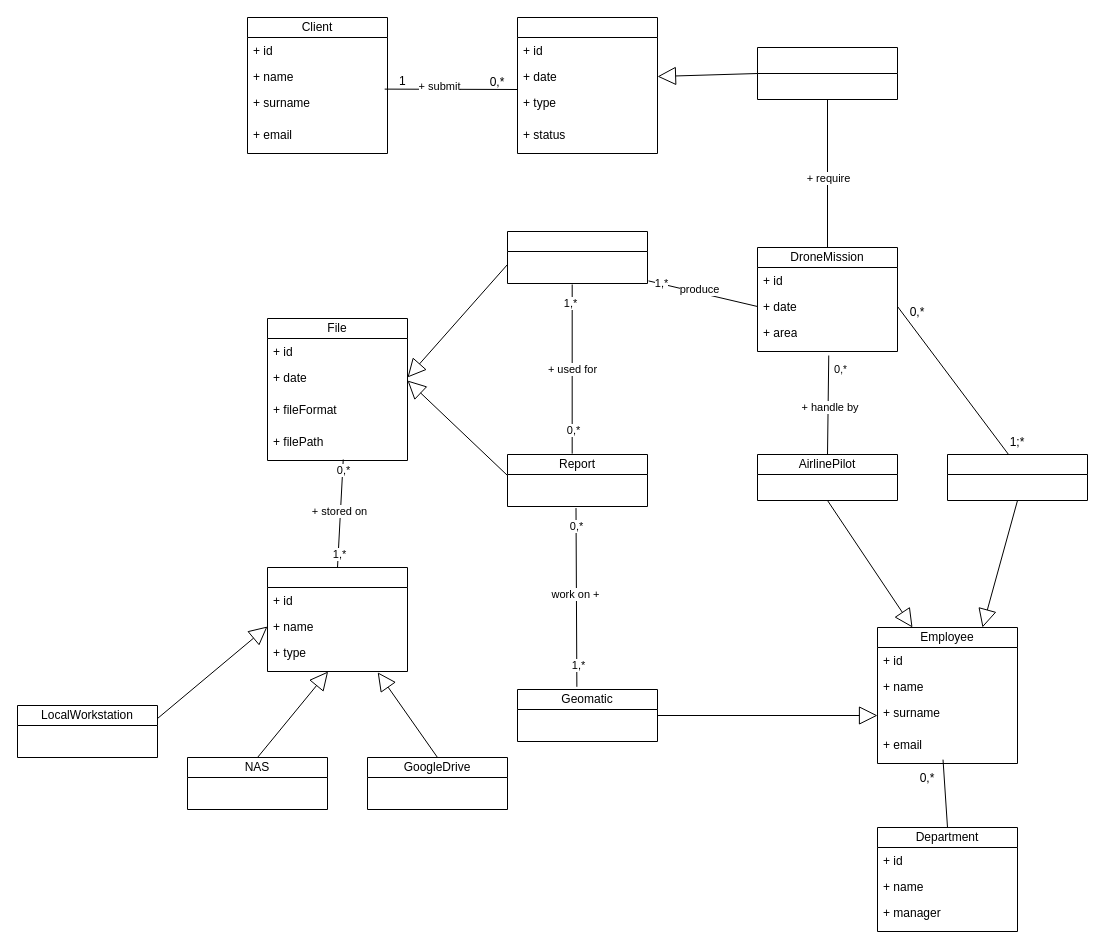
This 1105x952 diagram has some shape labels left out. The box of each missing label's shape, as (x1, y1, x2, y2) in pixels:
DataAcquisition: (756, 46, 898, 100)
RawData: (506, 230, 648, 284)
SensorOperator: (946, 454, 1088, 500)
ServiceRequest: (516, 16, 658, 154)
Storage: (266, 566, 408, 672)
